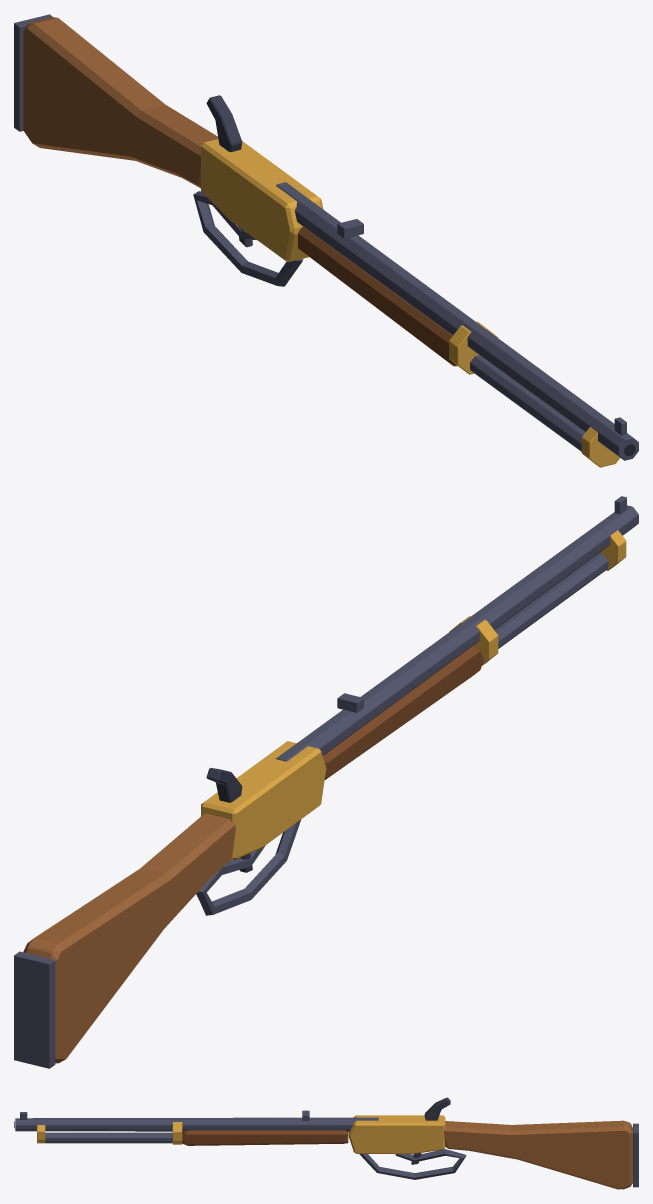
The model's file is myw_leverrifle.glb.
The picture shows the model from 3 angles, top to bottom: view 1: azimuth 30°, elevation 25°; view 2: azimuth 150°, elevation 25°; view 3: azimuth 270°, elevation 25°; orthographic projection. The views are drawn at different scales.
Parts seen in each view (by area): view 1: Stock, Barrel, Receiver, Lever, Hammer; view 2: Stock, Barrel, Receiver, Lever, Hammer; view 3: Stock, Barrel, Receiver, Lever, Hammer.
Part boxes in pixels (left/top/right/bottom): Stock: left=23, top=17, right=457, bottom=366; Barrel: left=14, top=14, right=638, bottom=467; Receiver: left=201, top=139, right=323, bottom=262; Lever: left=193, top=191, right=303, bottom=286; Hammer: left=206, top=95, right=242, bottom=151; Stock: left=23, top=646, right=483, bottom=1063; Barrel: left=14, top=496, right=638, bottom=1068; Receiver: left=201, top=741, right=326, bottom=860; Lever: left=196, top=819, right=301, bottom=915; Hammer: left=206, top=768, right=242, bottom=802; Stock: left=182, top=1120, right=632, bottom=1189; Barrel: left=14, top=1110, right=638, bottom=1187; Receiver: left=348, top=1115, right=445, bottom=1153; Lever: left=359, top=1149, right=466, bottom=1179; Hammer: left=424, top=1097, right=450, bottom=1120.
Size of the model in its own units: 0.2033 by 0.7995 by 5.16.
